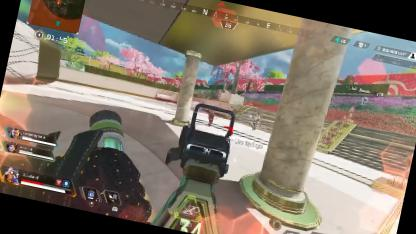Target: (248, 110, 262, 132), (204, 106, 216, 126)
